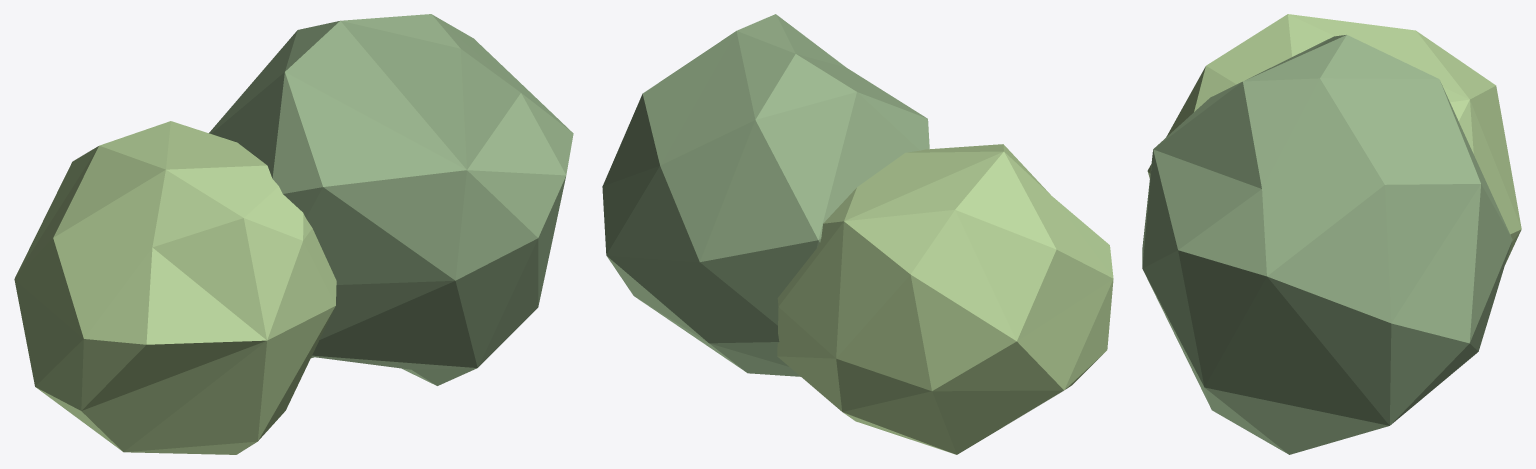
File: bush1.fbx
3 renders of one model, left to right at view 1: azimuth 30°, elevation 25°; view 2: azimuth 150°, elevation 25°; view 3: azimuth 270°, elevation 25°, orthographic. The views are drawn at different scales.
Visible parts, largest first — view 1: pCube2, pCube3; view 2: pCube3, pCube2; view 3: pCube2, pCube3.
Boxes of the visible parts, x1=… form: pCube2: x1=209, y1=14, x2=573, y2=385; pCube3: x1=14, y1=121, x2=336, y2=454; pCube3: x1=777, y1=144, x2=1113, y2=454; pCube2: x1=602, y1=14, x2=929, y2=376; pCube2: x1=1142, y1=35, x2=1512, y2=454; pCube3: x1=1147, y1=14, x2=1521, y2=264.
Size of the model in its own units: 3.57 by 2.49 by 2.22.
